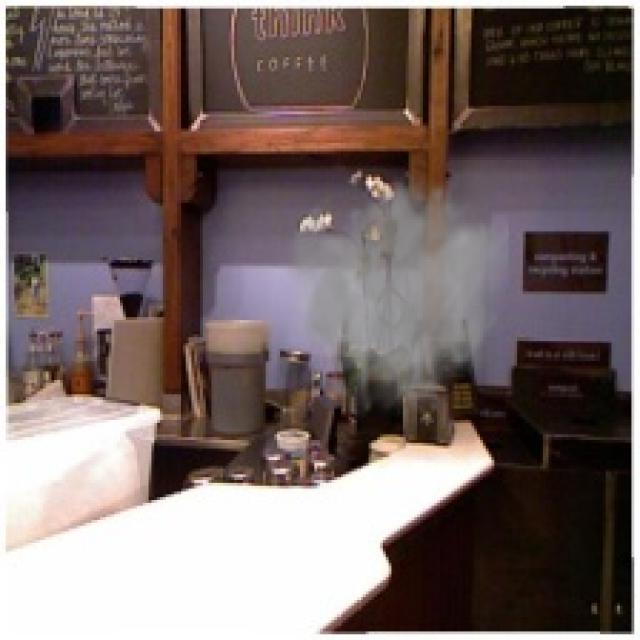smoke: (272, 168, 508, 423)
